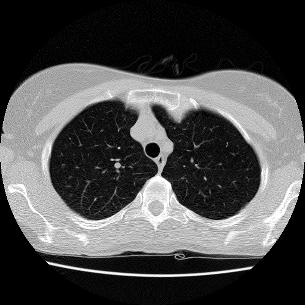nodule: (113, 162, 121, 170)
